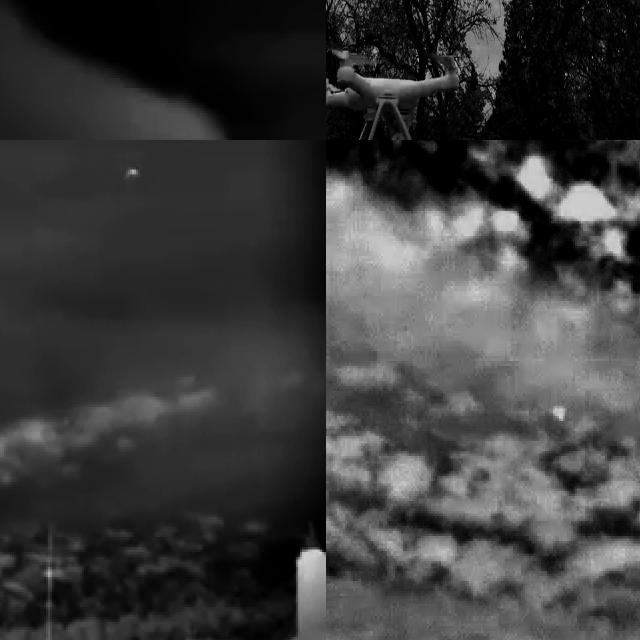0: (545, 394, 581, 436), (122, 162, 148, 190)
drone: (326, 48, 459, 140)
